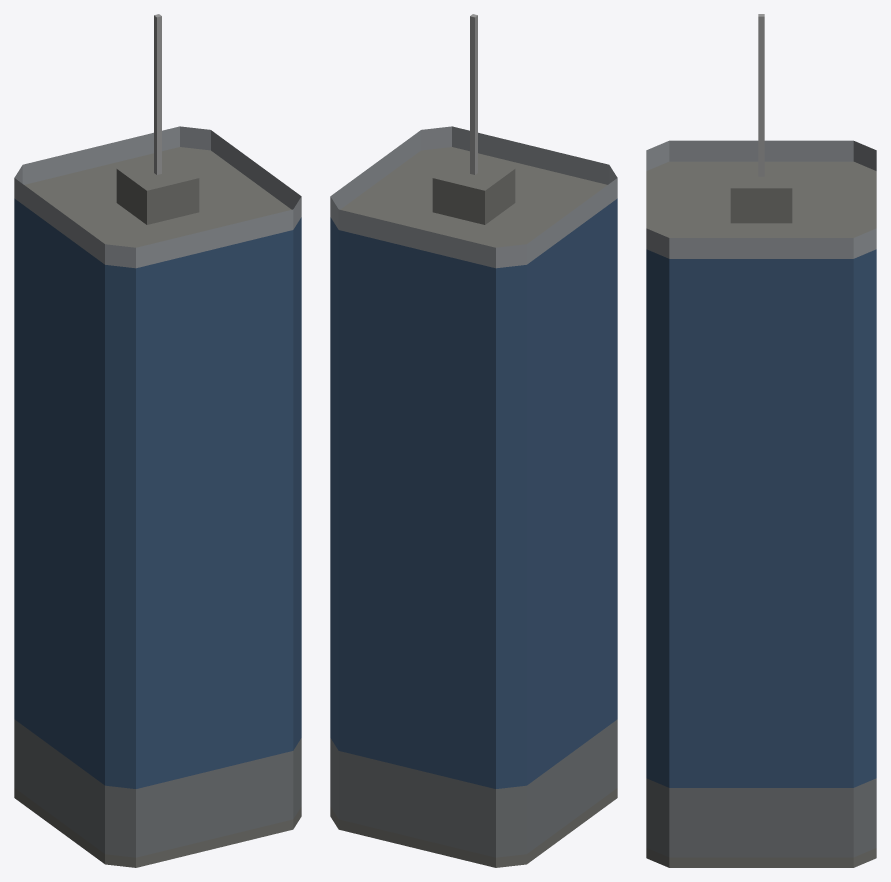
3 views of the same model, side by side, from view 1: azimuth 30°, elevation 25°; view 2: azimuth 150°, elevation 25°; view 3: azimuth 270°, elevation 25° (orthographic).
Parts seen in each view (by area): view 1: TW_T4_20F_LOD0; view 2: TW_T4_20F_LOD0; view 3: TW_T4_20F_LOD0.
Part boxes in pixels (bbox=[...]): TW_T4_20F_LOD0: bbox=[14, 14, 301, 867]; TW_T4_20F_LOD0: bbox=[330, 14, 617, 867]; TW_T4_20F_LOD0: bbox=[646, 14, 876, 867].
Size of what is drawn, in the model's own units: 30 by 116 by 30.
